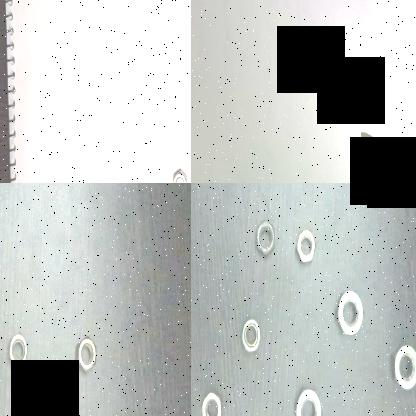Bolts: (373, 145, 391, 183)
NUTS: (332, 286, 366, 340), (388, 341, 416, 399), (0, 323, 28, 374), (253, 214, 279, 266), (73, 329, 97, 377), (239, 311, 261, 361), (294, 217, 316, 267), (294, 380, 324, 416), (199, 375, 224, 416), (169, 166, 187, 183)
